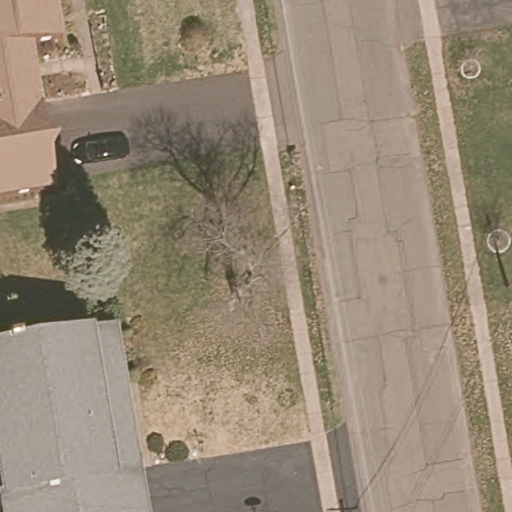DT: (493, 212, 512, 251)
